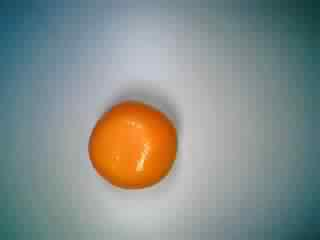orange: (87, 99, 182, 193)
